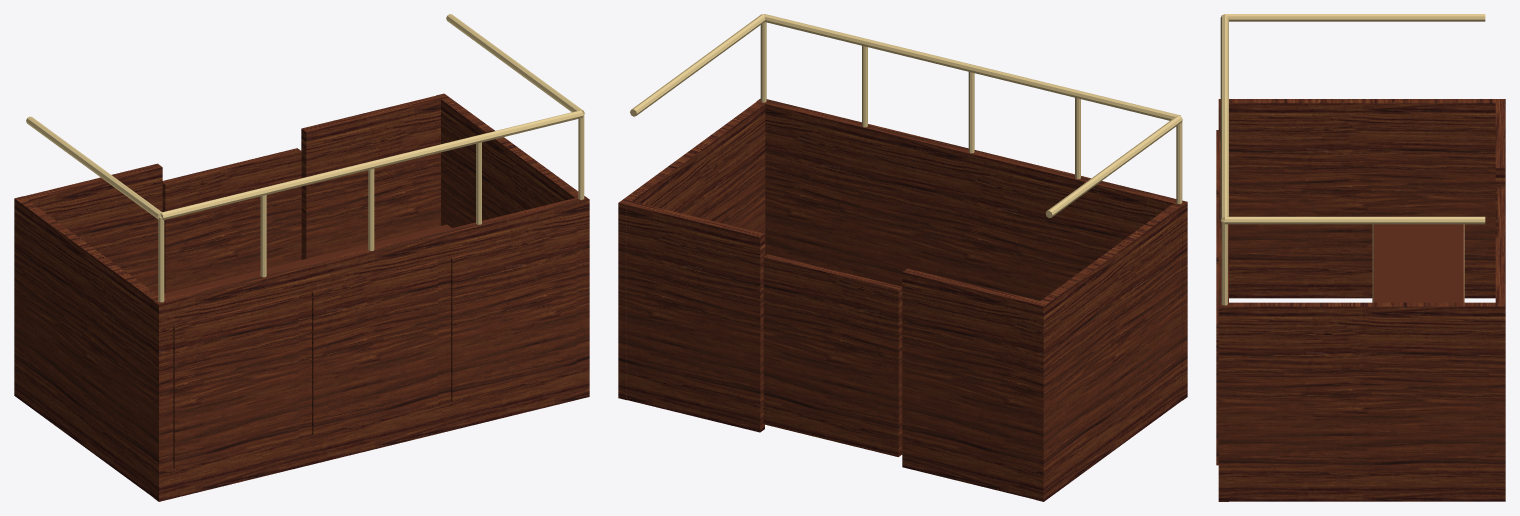
Rendered from dock.glb.
3 renders of one model, left to right at view 1: azimuth 30°, elevation 25°; view 2: azimuth 150°, elevation 25°; view 3: azimuth 270°, elevation 25°, orthographic.
Visible parts, largest first — view 1: dock; view 2: dock; view 3: dock.
Boxes of the visible parts, left/top/right/bottom form: dock: left=14, top=14, right=589, bottom=501; dock: left=618, top=14, right=1187, bottom=501; dock: left=1216, top=14, right=1505, bottom=501.
Bounding box in the file's own units: 2.4 × 1.52 × 1.41.
Materials: 3 (2 with a texture image).
